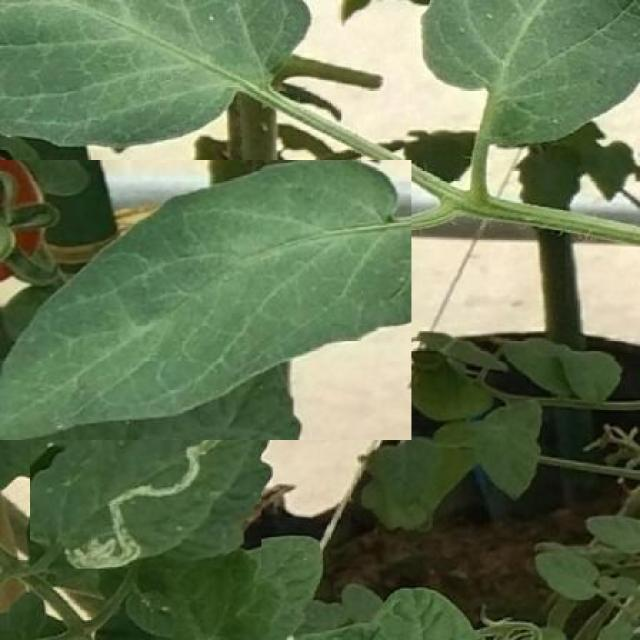Healthy: (0, 160, 411, 440)
Leaf Miner: (30, 404, 261, 569)
